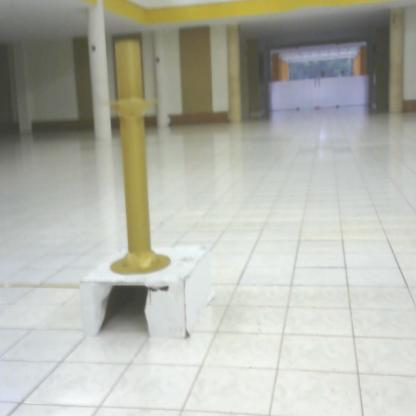pole: (99, 38, 183, 282)
